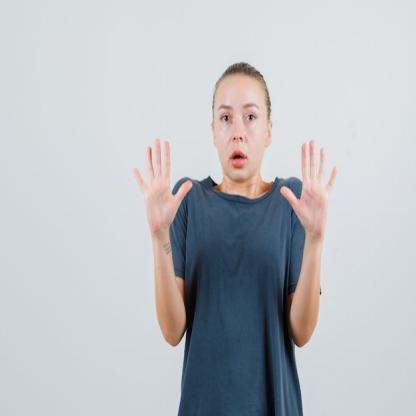stop: (278, 134, 344, 245), (130, 135, 195, 236)
